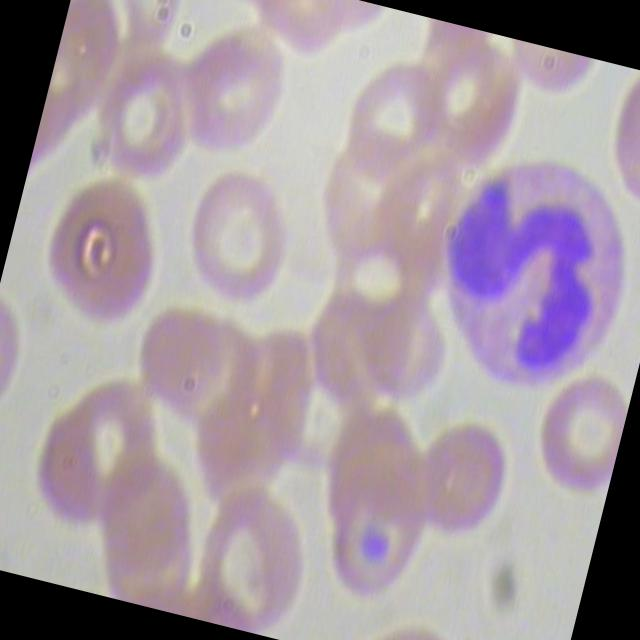RBC: (15, 364, 172, 546), (24, 157, 180, 340), (178, 473, 325, 640), (168, 160, 315, 318), (78, 41, 210, 198), (172, 15, 302, 171), (396, 408, 519, 553), (523, 361, 634, 506), (125, 293, 229, 416), (598, 68, 640, 213)
WBC: (405, 137, 640, 411)
